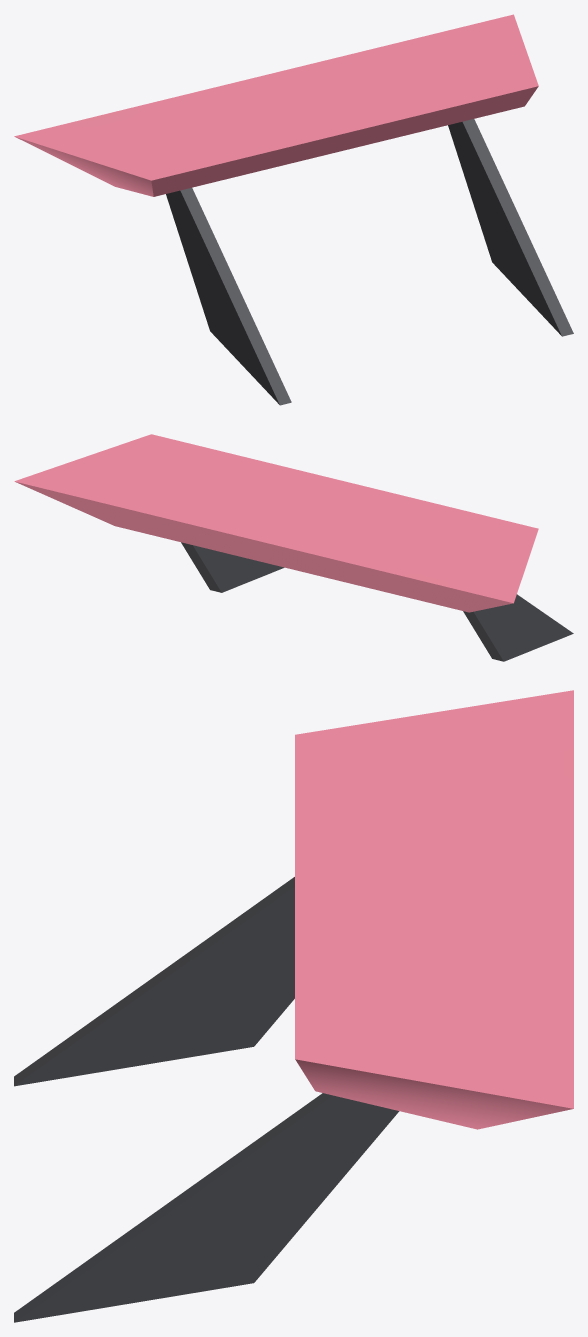
The model's file is BeetleSpoiler00C04.gltf.
The picture shows the model from 3 angles, top to bottom: view 1: azimuth 30°, elevation 25°; view 2: azimuth 150°, elevation 25°; view 3: azimuth 270°, elevation 25°; orthographic projection. The views are drawn at different scales.
Parts seen in each view (by area): view 1: BeetleSpoiler00C04; view 2: BeetleSpoiler00C04; view 3: BeetleSpoiler00C04.
Boxes of the visible parts, x1,y1,x2,y2 form: BeetleSpoiler00C04: (14, 14, 573, 405); BeetleSpoiler00C04: (14, 434, 573, 661); BeetleSpoiler00C04: (14, 690, 573, 1322).
Bounding box in the file's own units: 0.1866 × 0.0629 × 0.1055.
